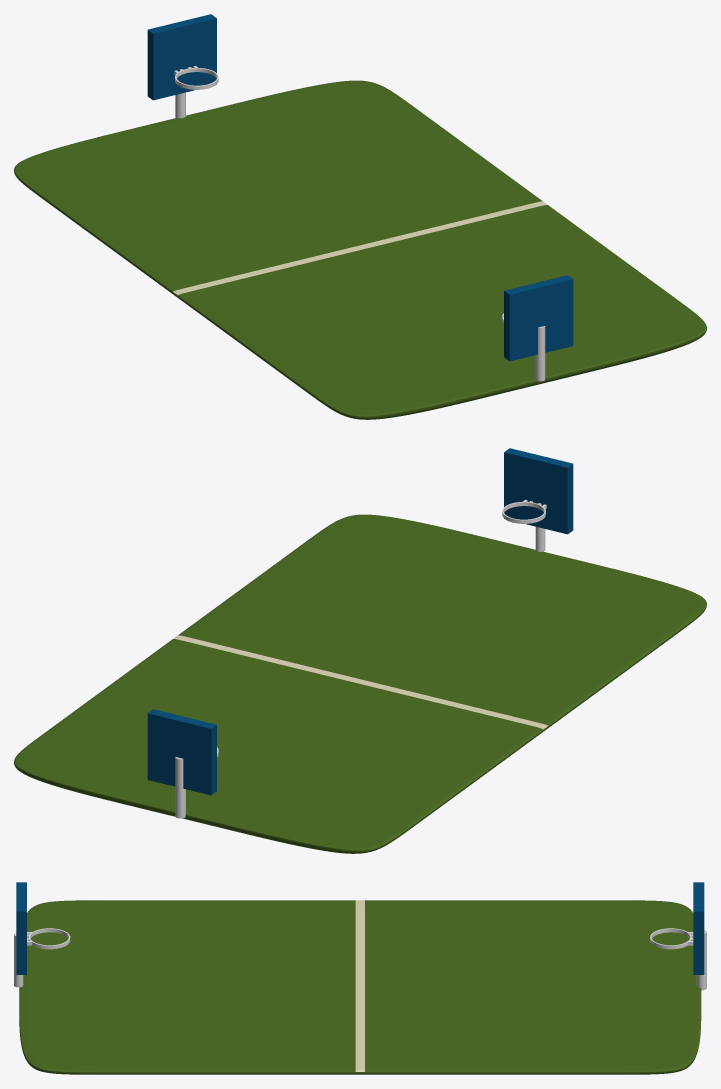
Rendered from mapbasketball.fbx.
The picture shows the model from 3 angles, top to bottom: view 1: azimuth 30°, elevation 25°; view 2: azimuth 150°, elevation 25°; view 3: azimuth 270°, elevation 25°; orthographic projection. The views are drawn at different scales.
Parts seen in each view (by area): view 1: ground.001, Cube.002, Cube.001; view 2: ground.001, Cube.001, Cube.002; view 3: ground.001, Cube.001, Cube.002, Circle.001, Circle.
Part boxes in pixels (x1=…): ground.001: x1=14, y1=80, x2=706, y2=419; Cube.002: x1=504, y1=275, x2=573, y2=361; Cube.001: x1=147, y1=14, x2=216, y2=100; ground.001: x1=14, y1=514, x2=706, y2=853; Cube.001: x1=147, y1=709, x2=216, y2=795; Cube.002: x1=504, y1=448, x2=573, y2=534; ground.001: x1=19, y1=900, x2=701, y2=1074; Cube.001: x1=693, y1=882, x2=704, y2=974; Cube.002: x1=16, y1=882, x2=26, y2=974; Circle.001: x1=650, y1=928, x2=693, y2=949; Circle: x1=27, y1=928, x2=70, y2=949.
Size of the model in its own units: 75.59 by 20.14 by 129.
